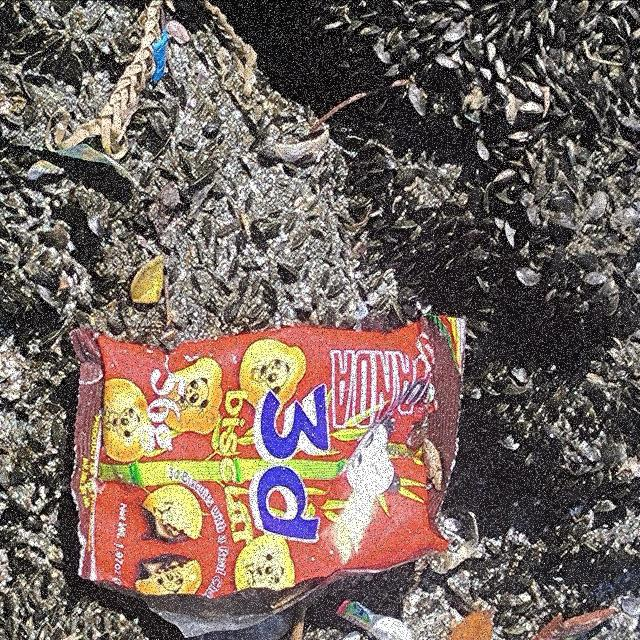plastic_waste: (69, 312, 470, 601), (336, 600, 376, 632)
